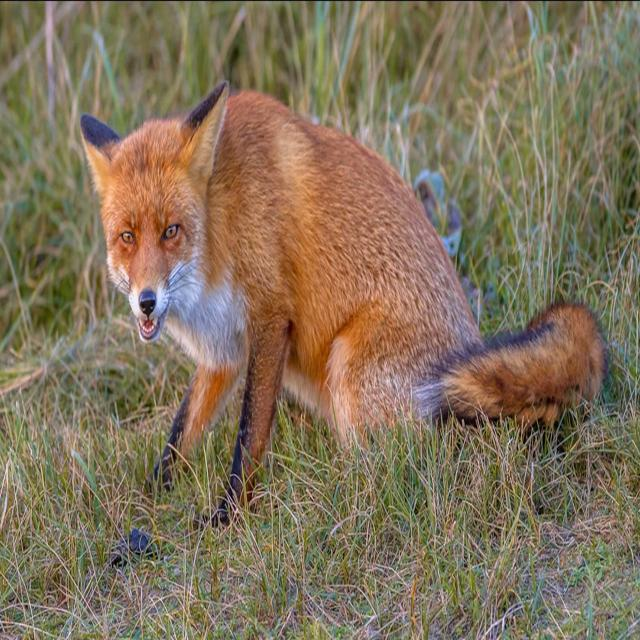fox: (79, 79, 609, 531)
